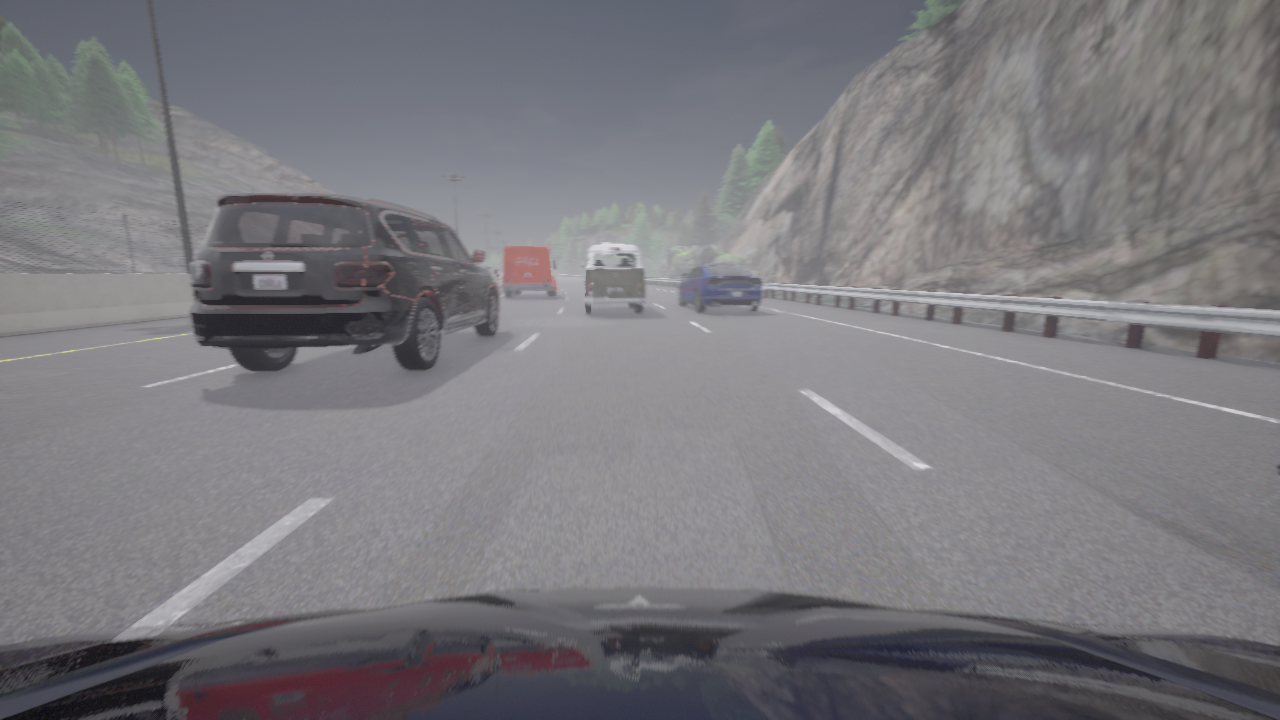cyclist: (0, 588, 1279, 719), (190, 194, 500, 372), (580, 243, 645, 314), (679, 262, 762, 312), (502, 247, 556, 297), (485, 267, 499, 289), (1277, 464, 1279, 474)
